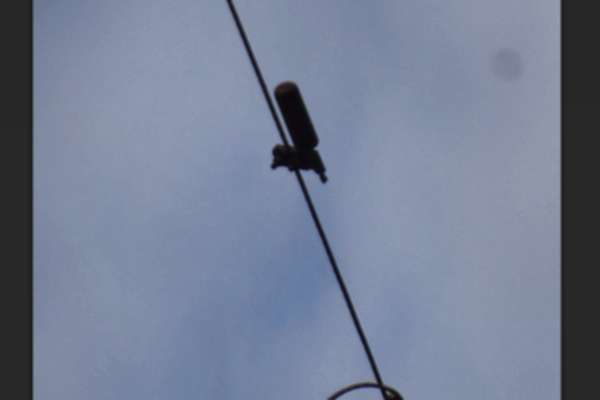damper_defect: (263, 78, 331, 185)
